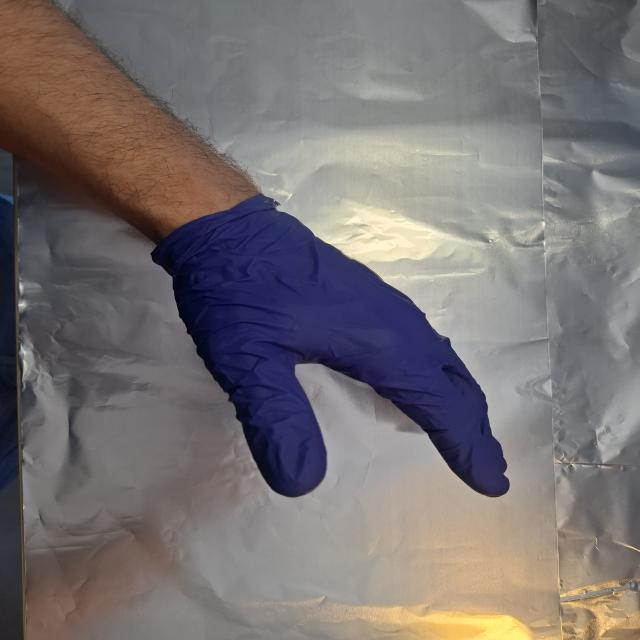glove_on: (151, 201, 519, 500)
